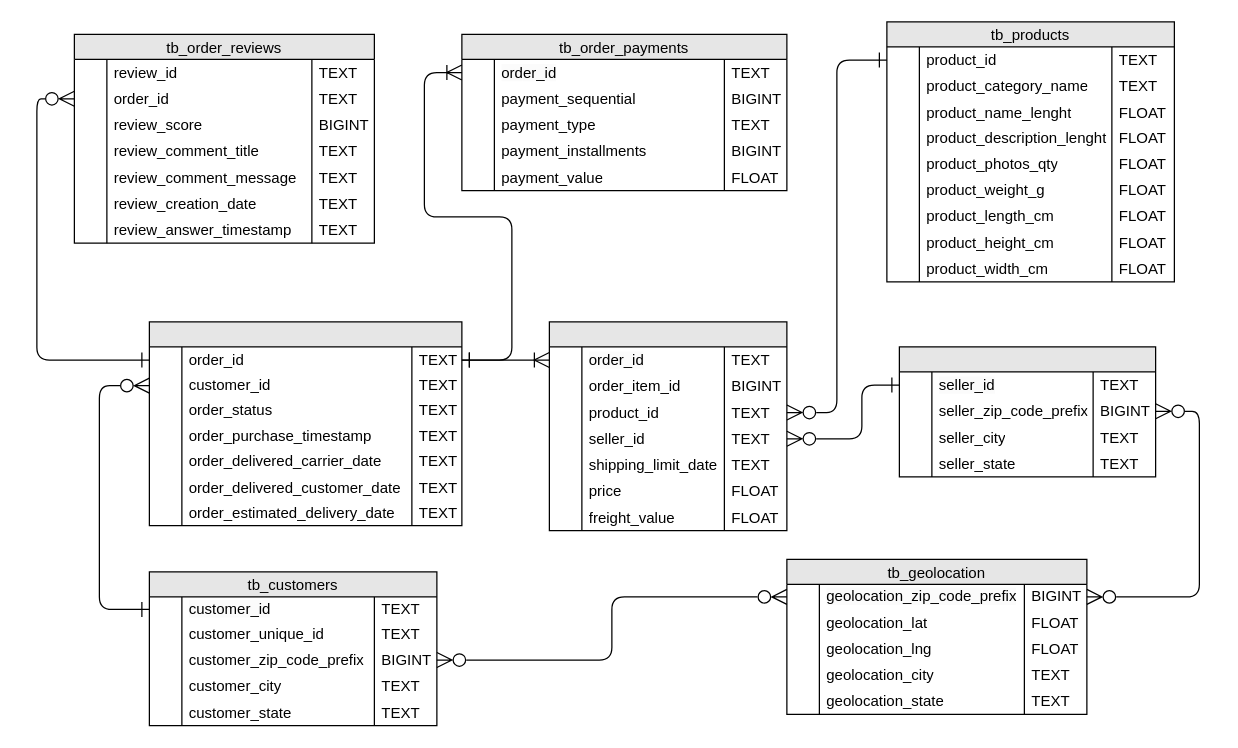
This 1238x748 diagram has some shape labels left out. Here are the shapes that lost their labels. From the top down, the box of each, then its label:
(148, 321, 462, 526): tb_orders
(548, 321, 787, 531): tb_order_items
(898, 346, 1156, 477): tb_sellers
